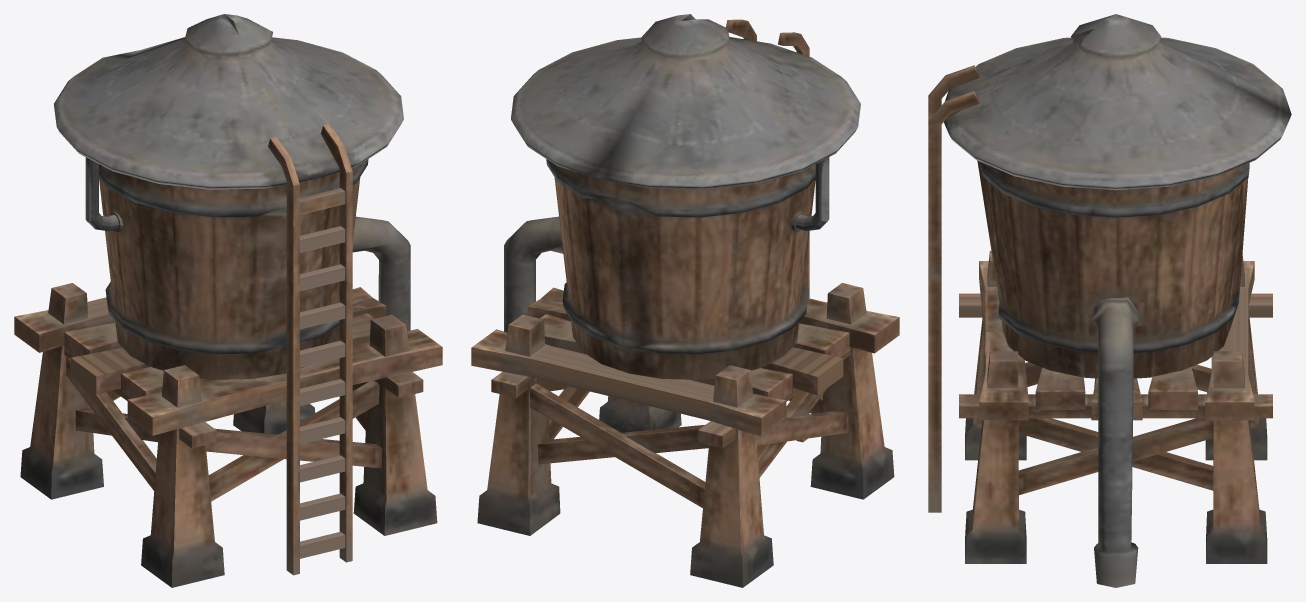
File: water-tower.lod1.glb
3 renders of one model, left to right at view 1: azimuth 30°, elevation 25°; view 2: azimuth 150°, elevation 25°; view 3: azimuth 270°, elevation 25°, orthographic.
Parts seen in each view (by area): view 1: defaultMaterial (×2); view 2: defaultMaterial (×2); view 3: defaultMaterial (×2).
Boxes of the visible parts, x1,y1,x2,y2 form: defaultMaterial (×2): (14,14,442,587); defaultMaterial (×2): (471,14,899,587); defaultMaterial (×2): (928,14,1291,587).
Size of the model in its own units: 5.09 by 7 by 4.79.
Materials: 2 (2 with a texture image).
